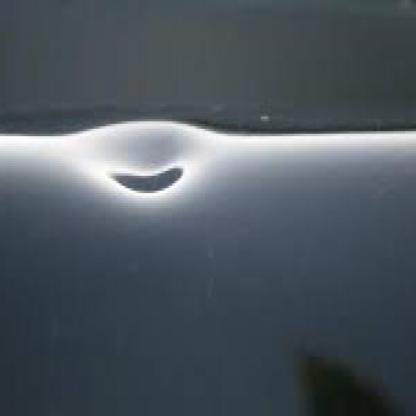dent: (105, 128, 190, 206)
